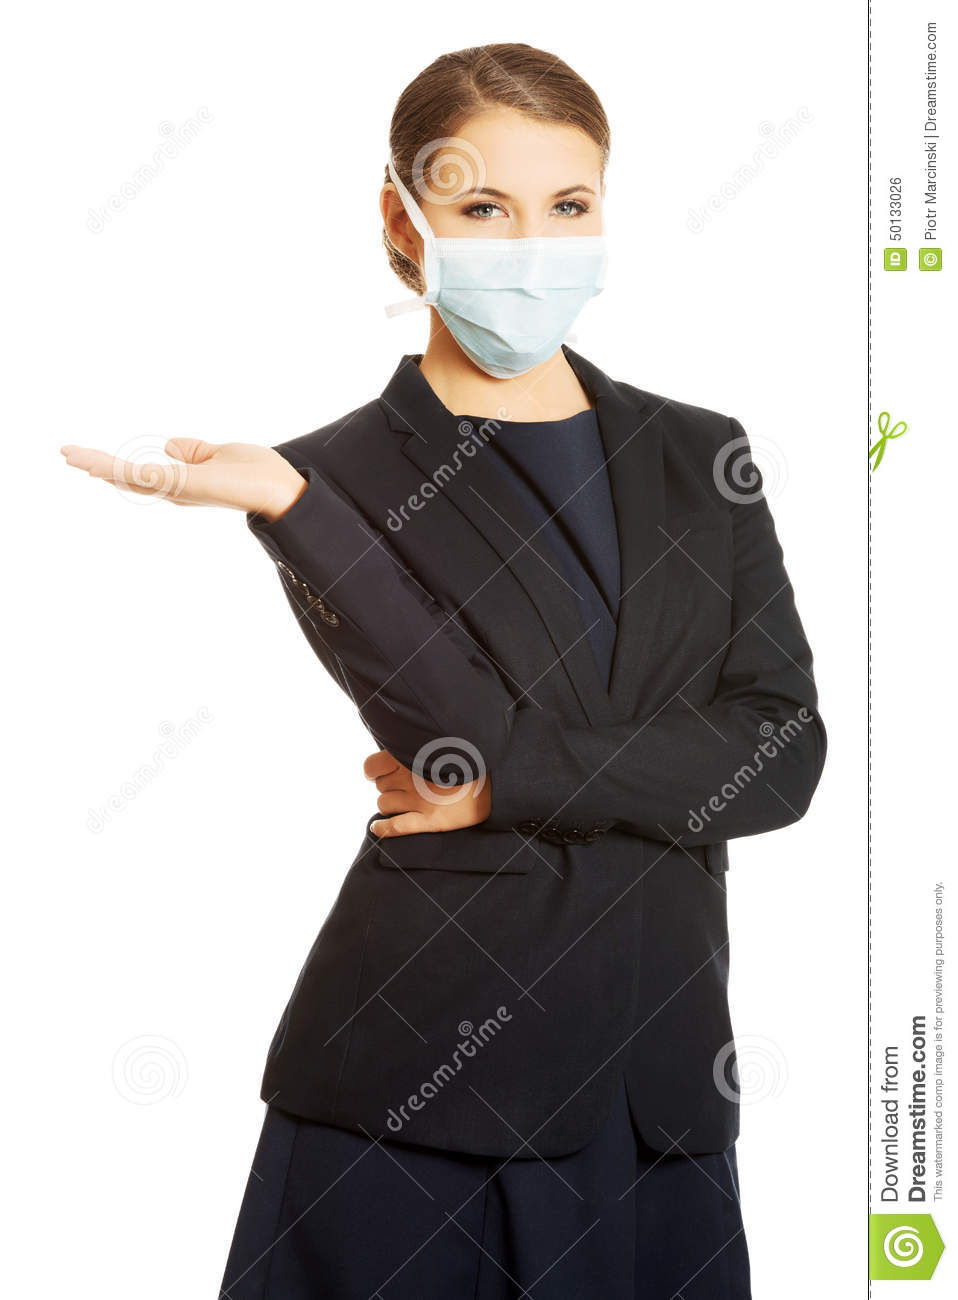mask: (424, 238, 604, 380)
